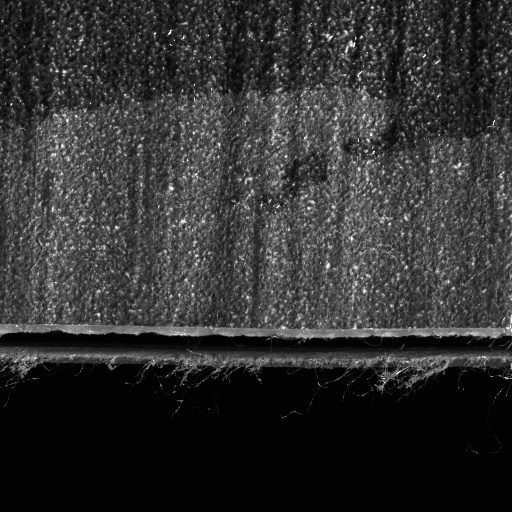kaijiao: (0, 319, 511, 376)
